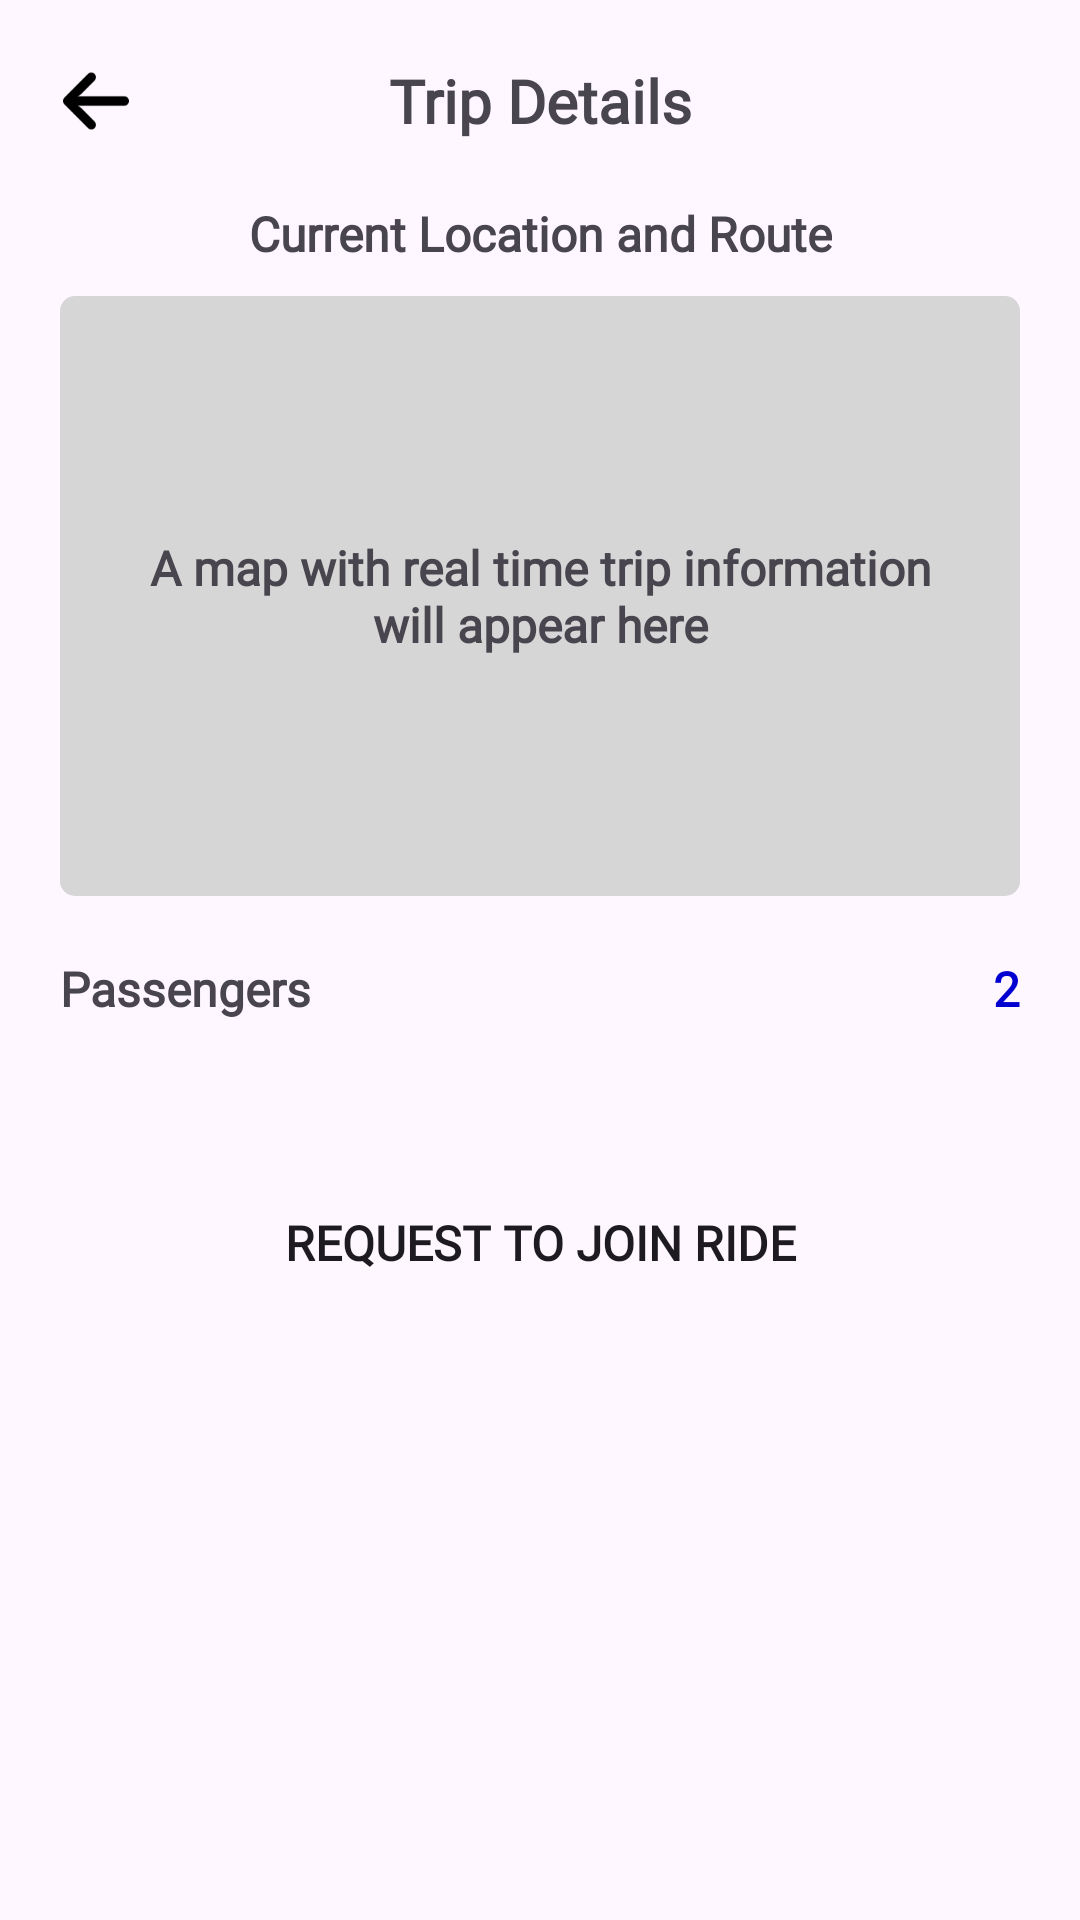

Named icons in this screenshot (1080 × 1920) and their bounding boxes, BBox(x1, y1, x2, y2):
back arrow: BBox(63, 72, 129, 130)
